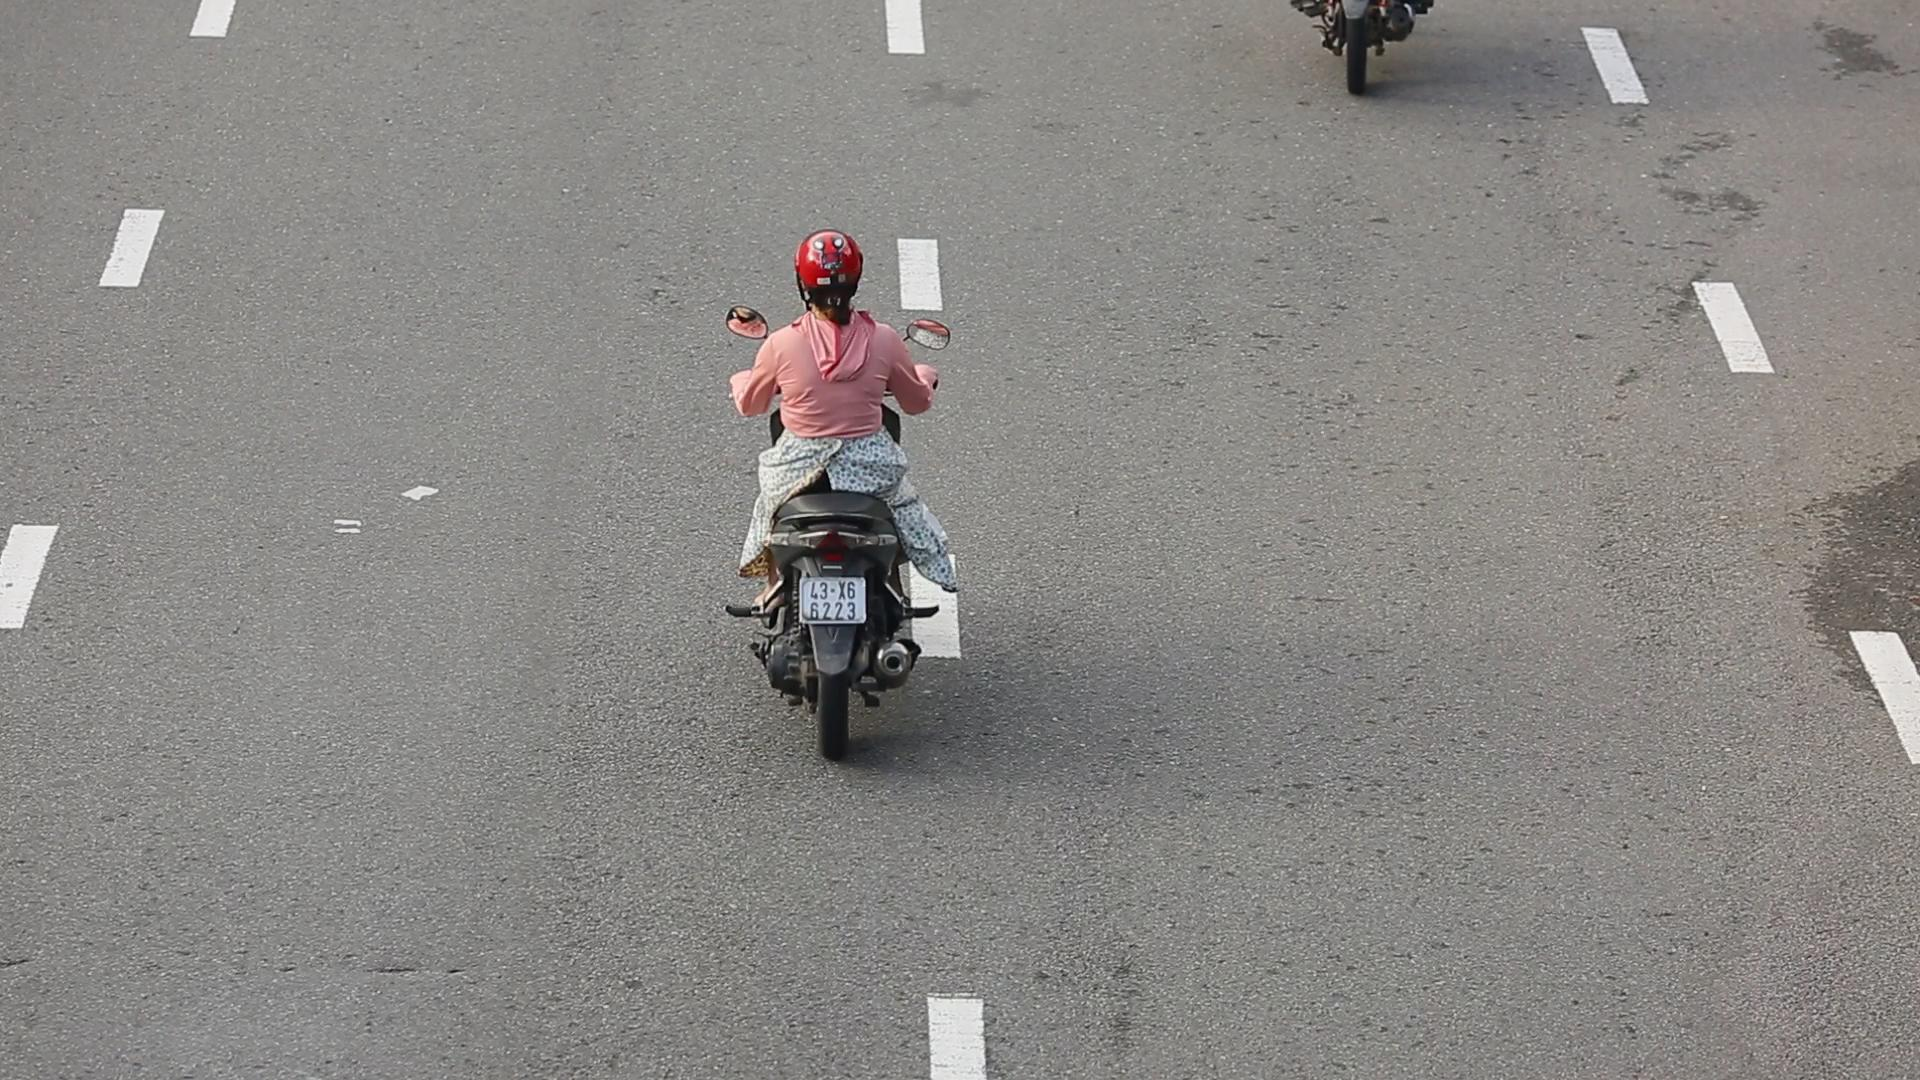motobike: (719, 212, 960, 771)
